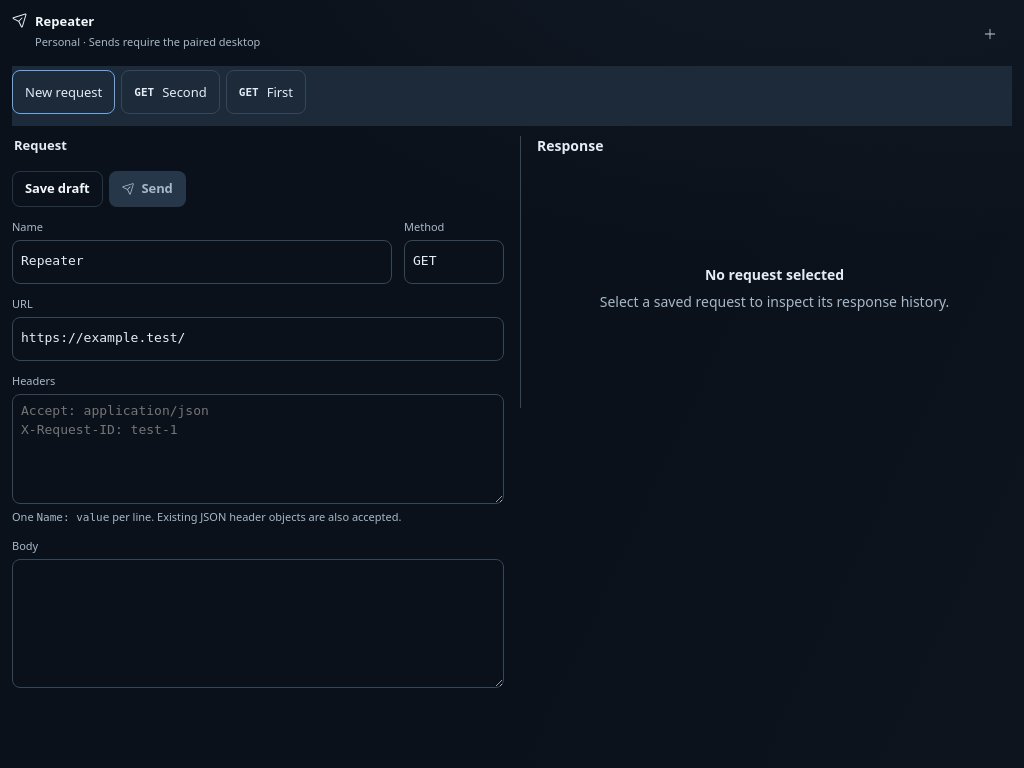
Test: manual request workspace presentation › clears selected content after deleting the selected request
Click the button "GET First" at (266, 92), box [226, 70, 306, 114]
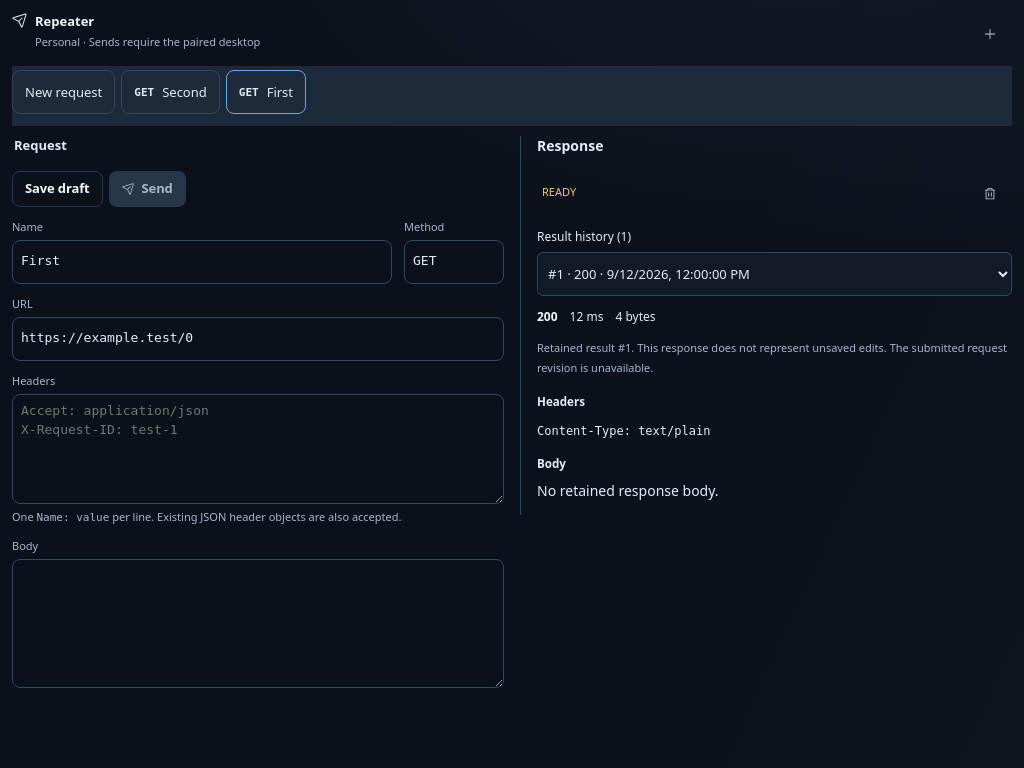
Click the button named "Delete Repeater request First" at (990, 194), box [968, 172, 1012, 216]
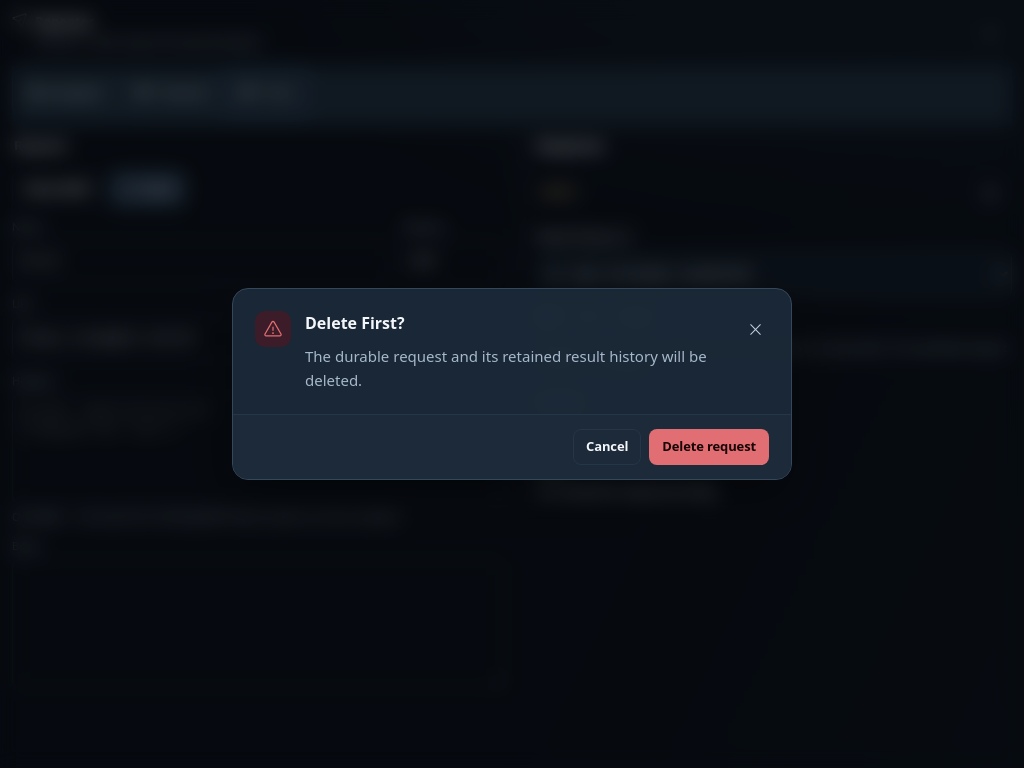
Click the button "Delete request" at (709, 447), box [649, 429, 769, 465]
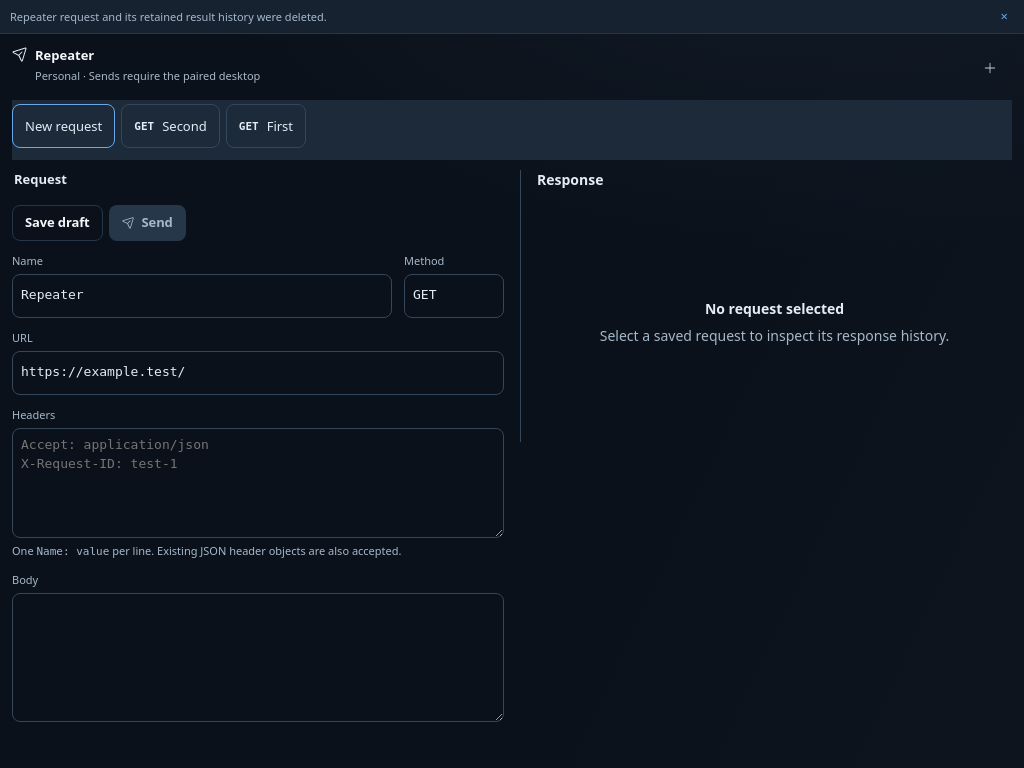
Check: the field labelled "Name" holds "Repeater", box [12, 274, 392, 318]
Check: the field labelled "URL" holds "https://example.test/", box [12, 351, 504, 395]
Check: the text "No request selected" is shown, box [705, 298, 844, 319]
